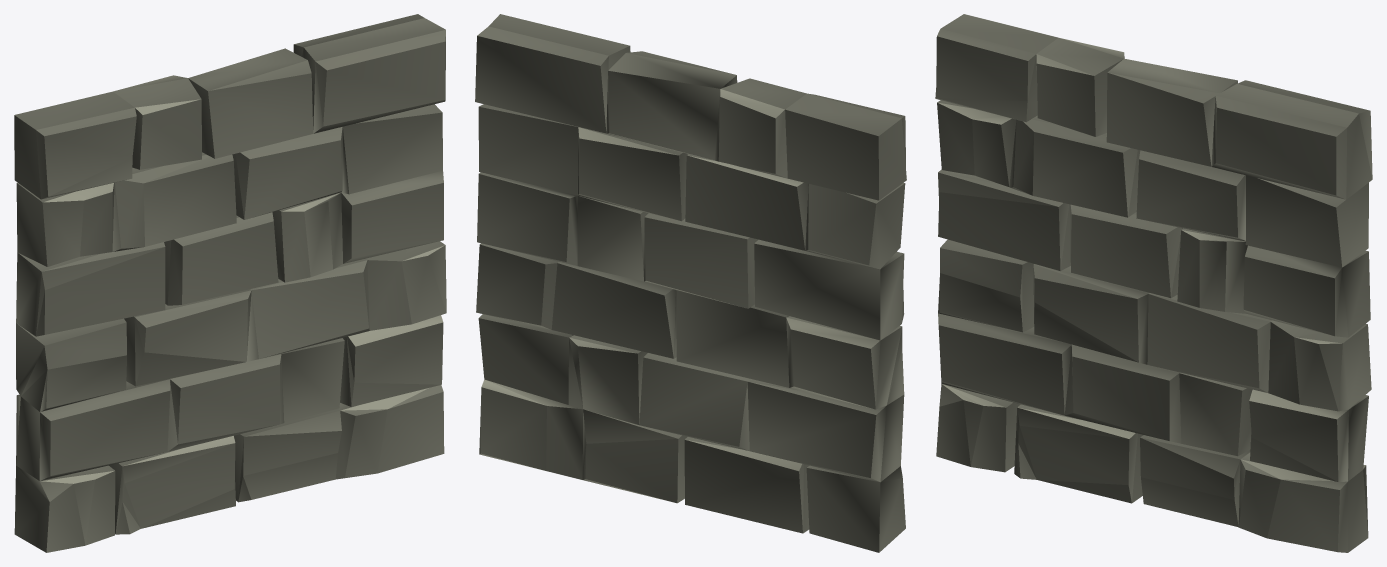
The model's file is Wall.fbx.
3 views of the same model, side by side, from view 1: azimuth 30°, elevation 25°; view 2: azimuth 150°, elevation 25°; view 3: azimuth 330°, elevation 25° (orthographic).
Visible parts, largest first — view 1: Wall; view 2: Wall; view 3: Wall.
Part boxes in pixels (box(x1,y1,x2,y2)): Wall: box(14, 14, 446, 552); Wall: box(475, 14, 906, 552); Wall: box(935, 14, 1372, 552).
Bounding box in the file's own units: 99.8 × 14.65 × 99.8.
